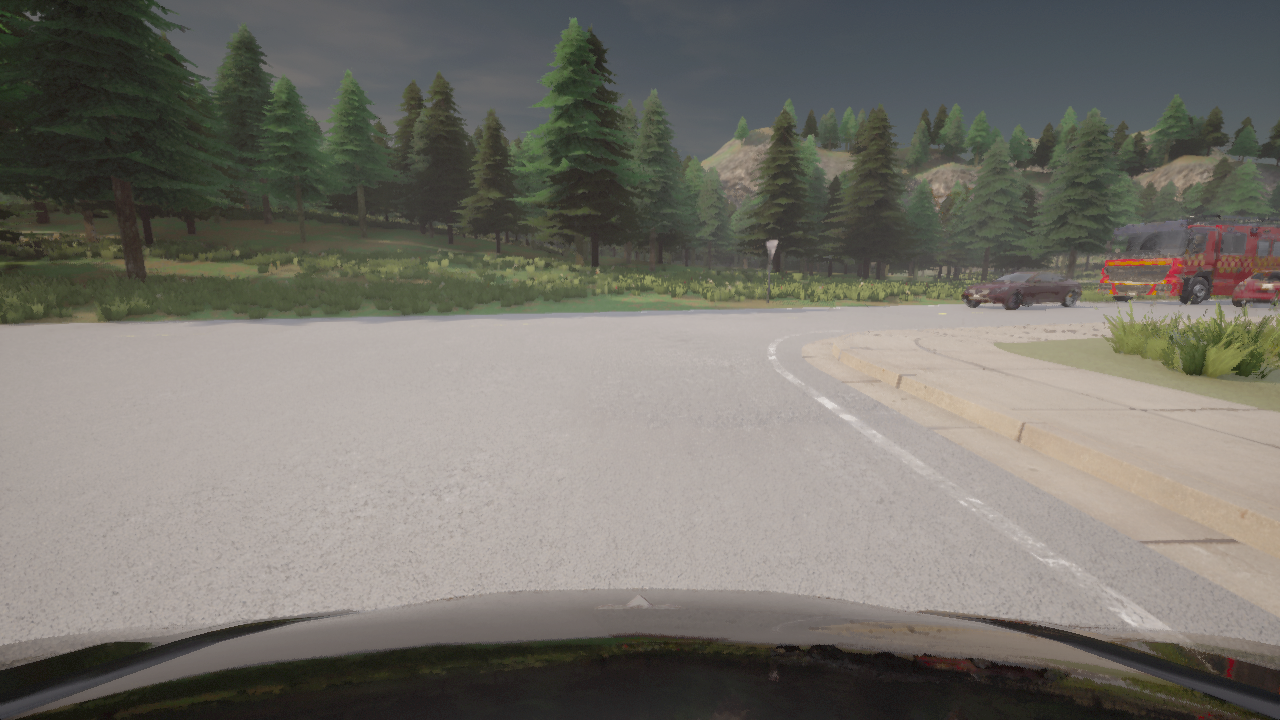cyclist: (0, 588, 1279, 719), (1097, 214, 1279, 305), (963, 271, 1083, 309), (1231, 270, 1279, 307)
